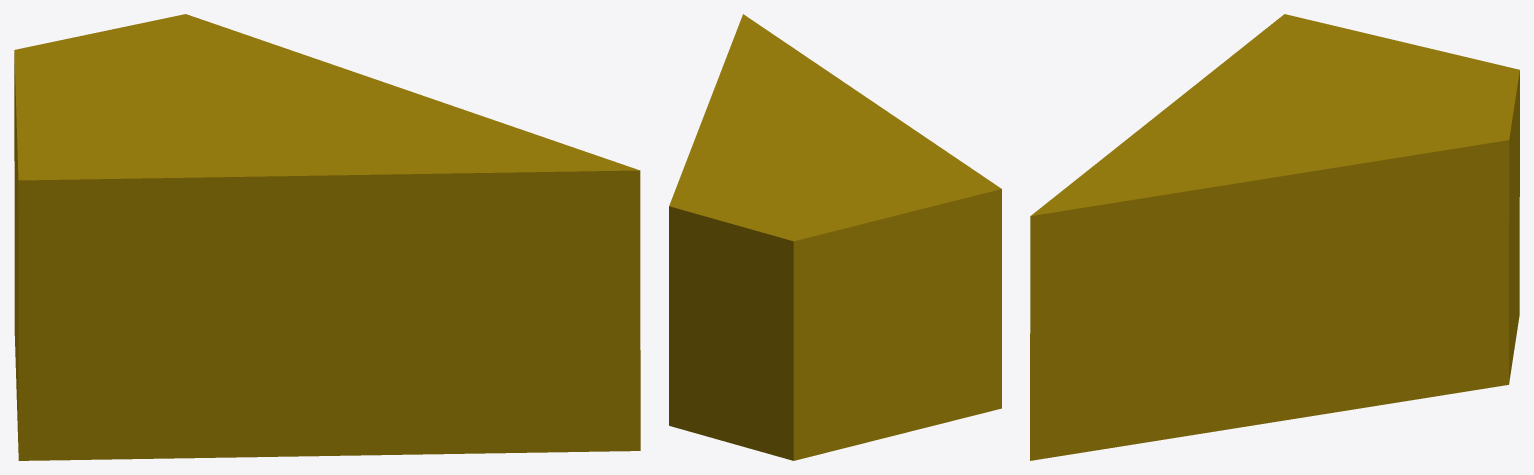
3 renders of one model, left to right at view 1: azimuth 30°, elevation 25°; view 2: azimuth 150°, elevation 25°; view 3: azimuth 270°, elevation 25°, orthographic. The views are drawn at different scales.
Parts seen in each view (by area): view 1: 疏浚3; view 2: 疏浚3; view 3: 疏浚3.
Part boxes in pixels (x1,y1,x2,y2): 疏浚3: (14,14,640,460); 疏浚3: (669,14,1001,460); 疏浚3: (1030,14,1519,460).
Size of the model in its own units: 5.52 by 3.11 by 5.63.
